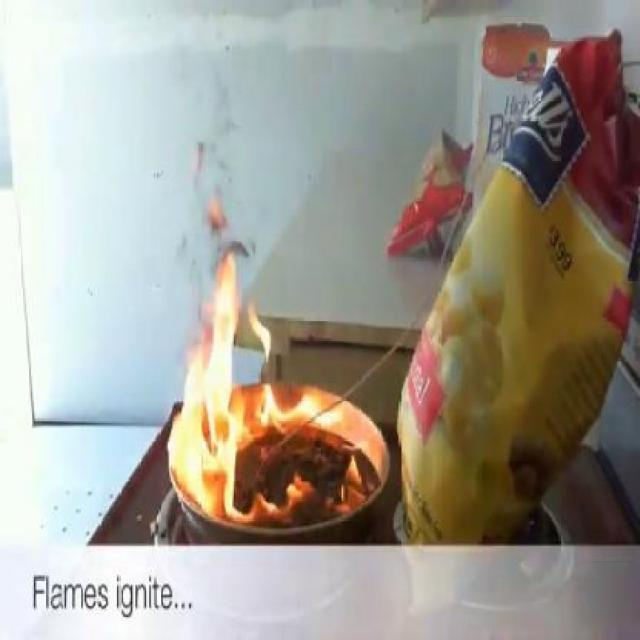fire: (169, 250, 306, 516)
